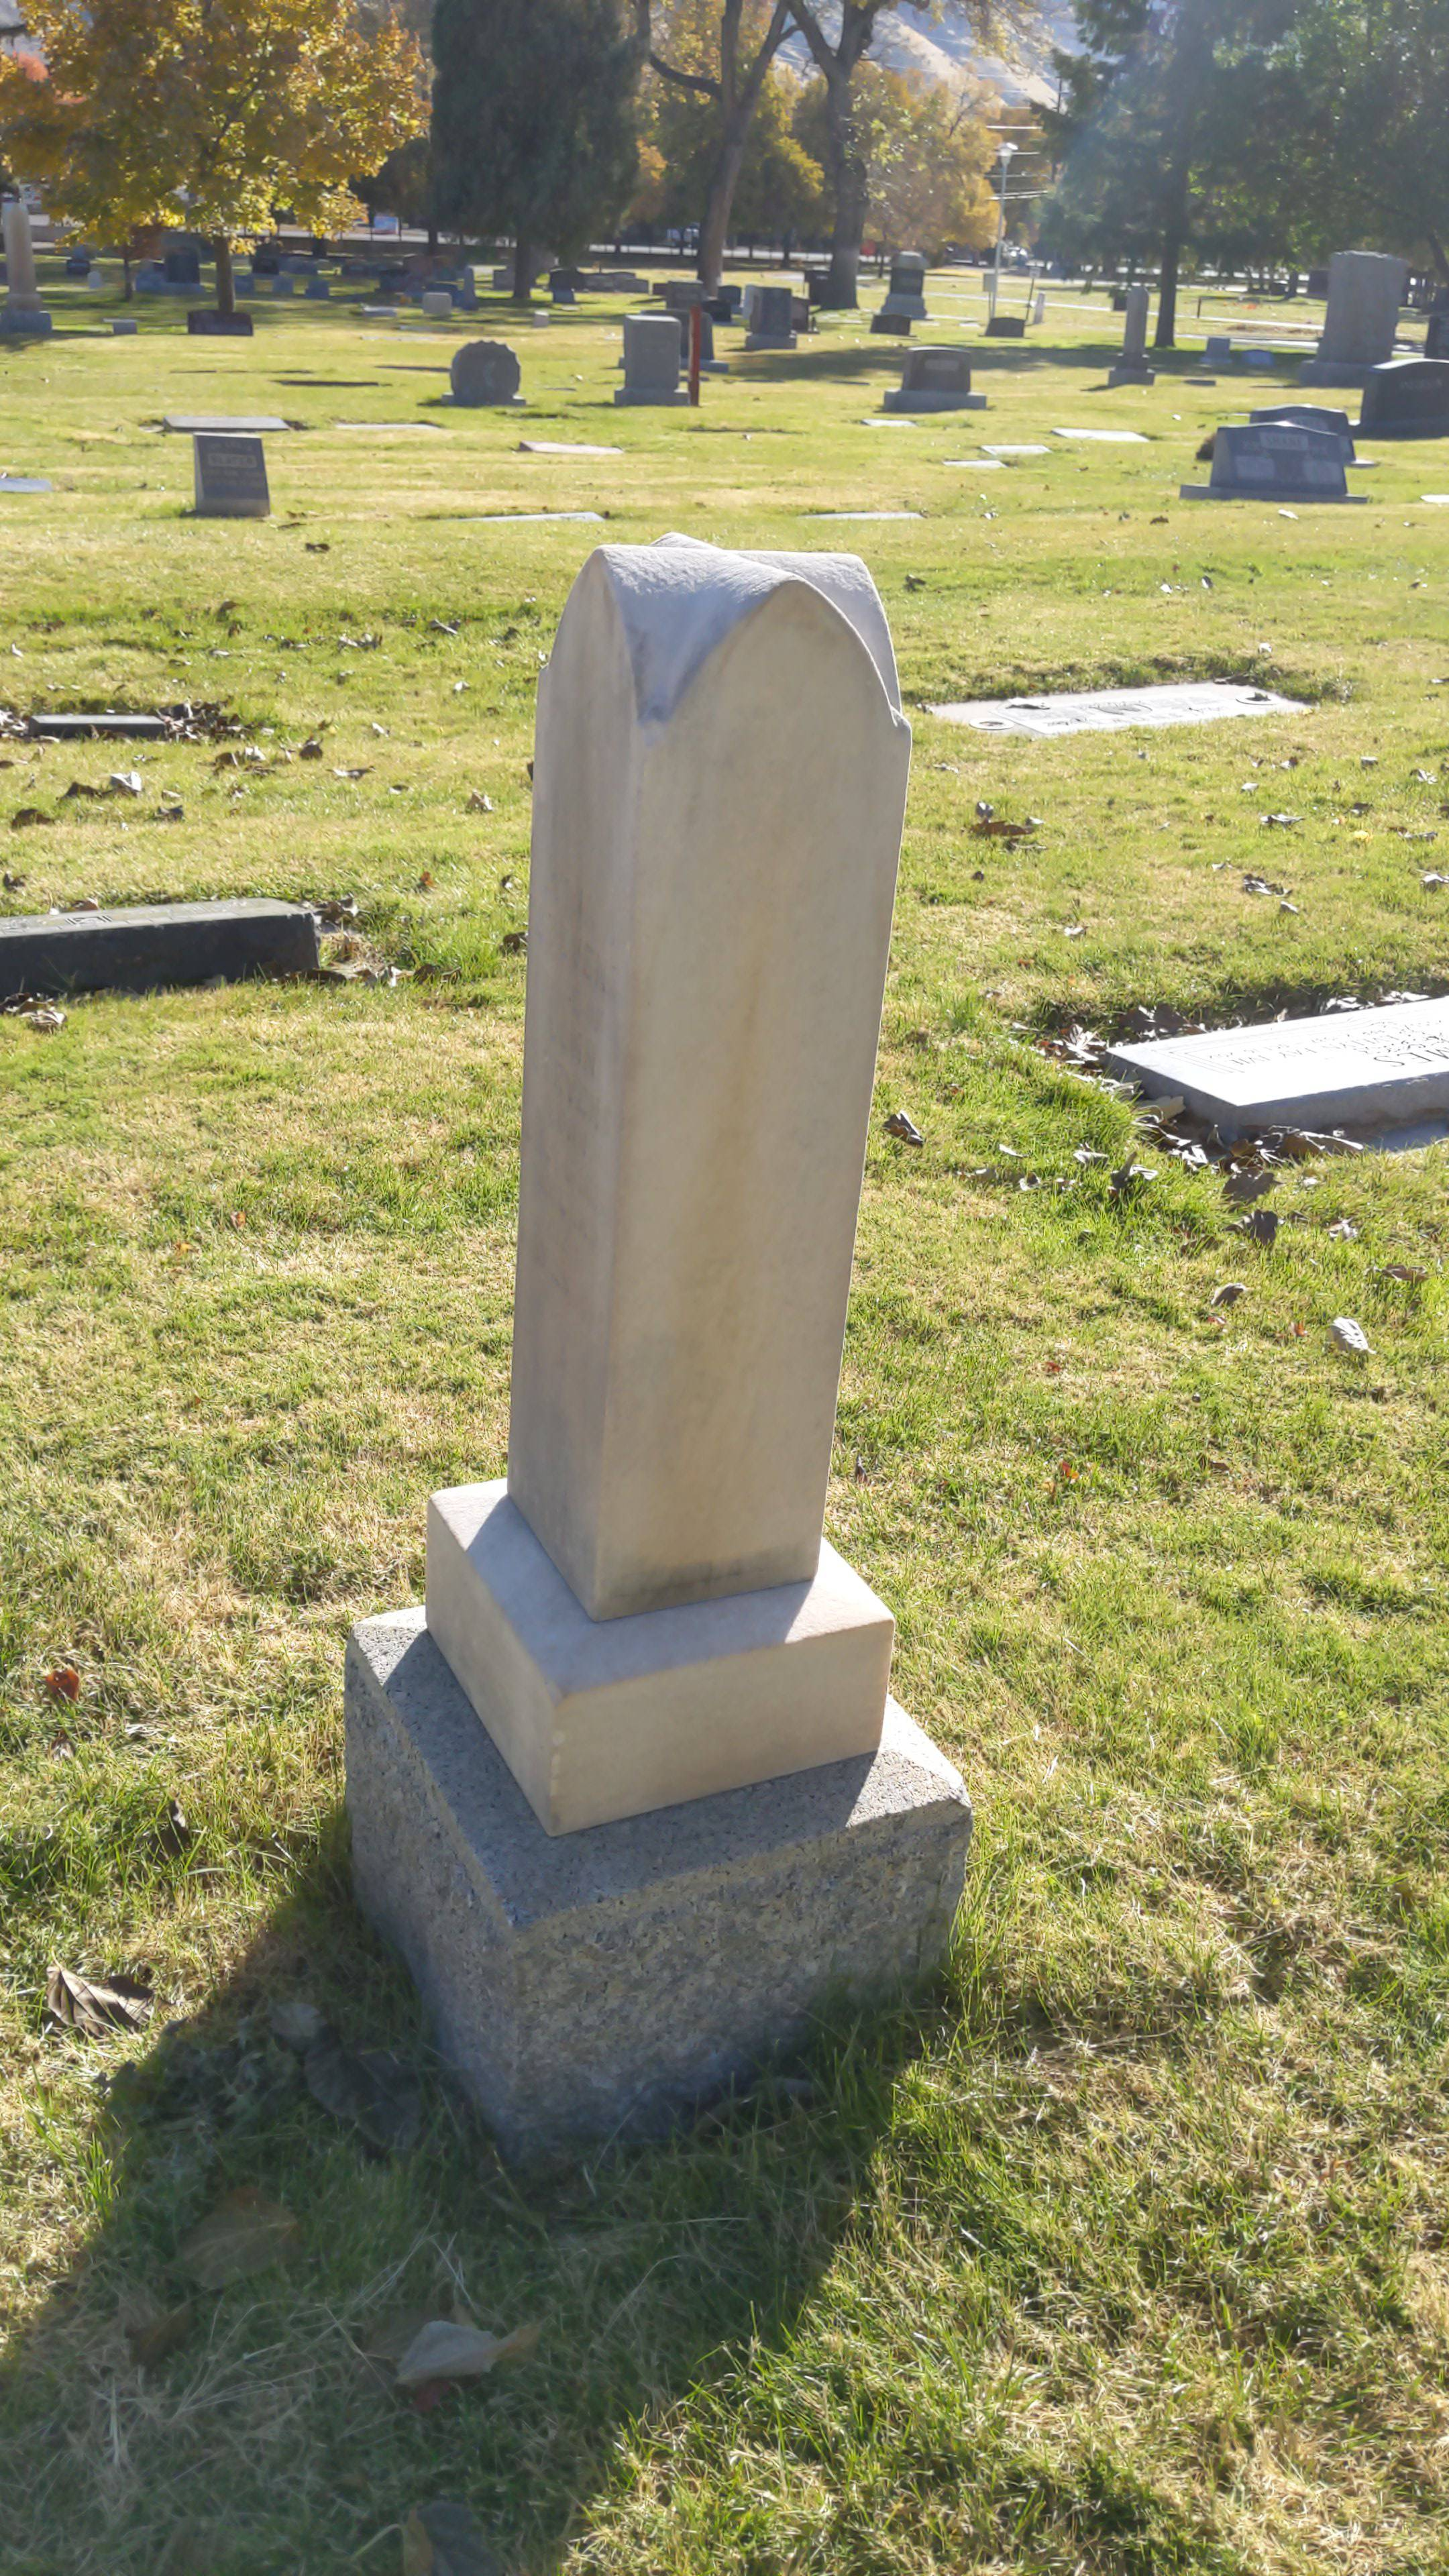obelisk: (432, 522, 909, 1847)
